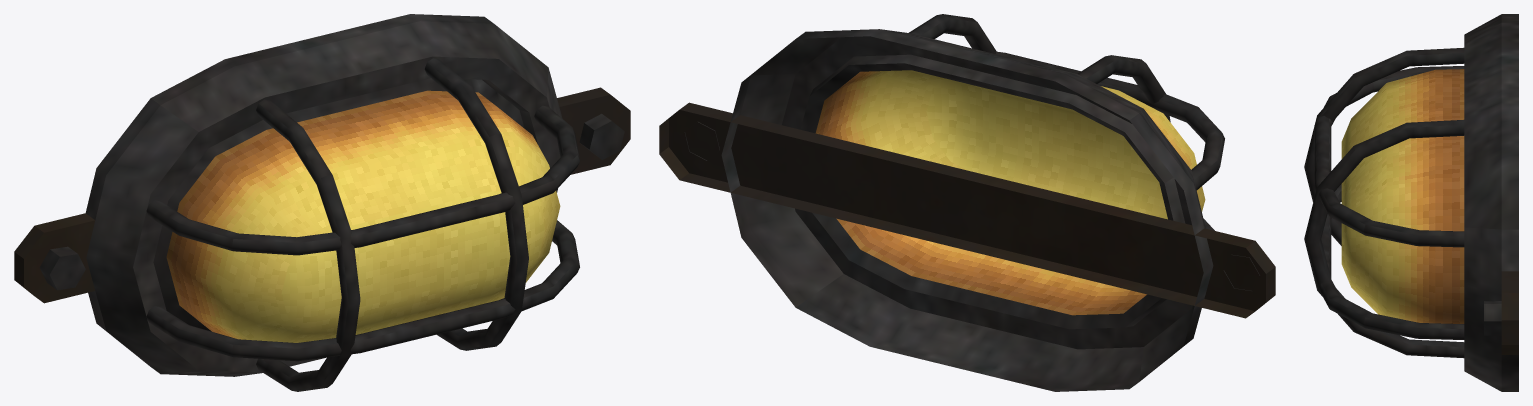
The model's file is lamp_2_on.obj.
3 renders of one model, left to right at view 1: azimuth 30°, elevation 25°; view 2: azimuth 150°, elevation 25°; view 3: azimuth 270°, elevation 25°, orthographic. The views are drawn at different scales.
Parts seen in each view (by area): view 1: lamp_2_on; view 2: lamp_2_on; view 3: lamp_2_on.
Boxes of the visible parts, <box> form: lamp_2_on: <box>14,14,630,391</box>; lamp_2_on: <box>659,14,1275,391</box>; lamp_2_on: <box>1304,14,1518,391</box>.
Bounding box in the file's own units: 0.36 × 0.176 × 0.126.
